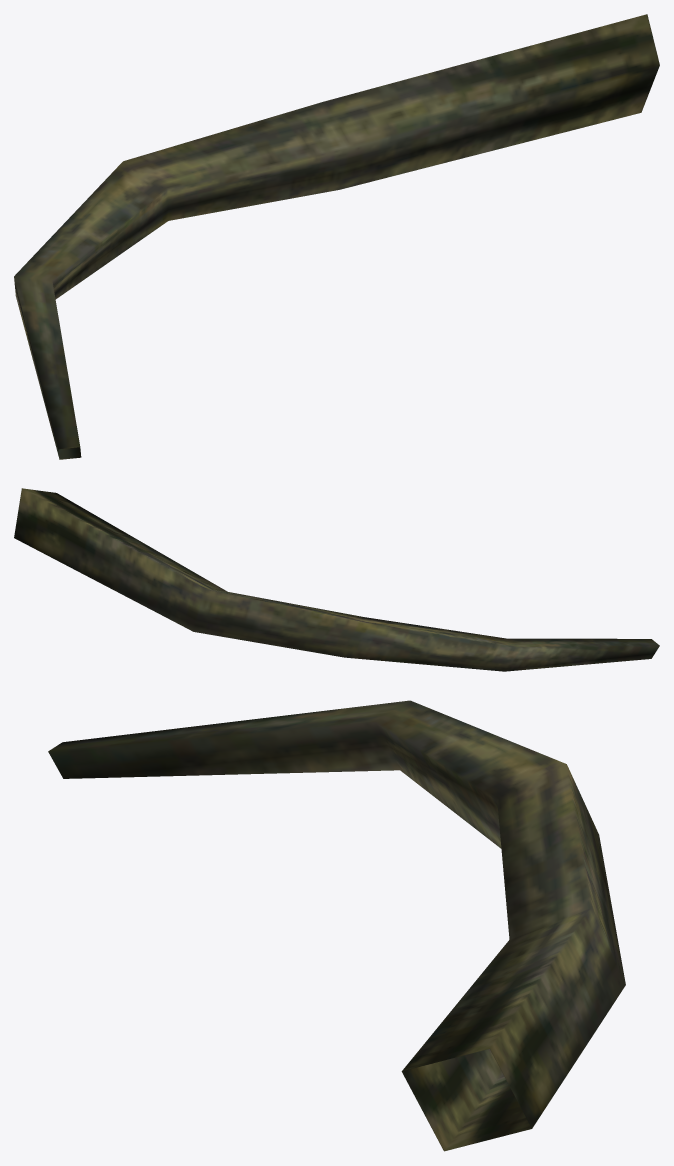
File: OVERHILL_A_01_LINE342.fbx
3 renders of one model, top to bottom at view 1: azimuth 30°, elevation 25°; view 2: azimuth 150°, elevation 25°; view 3: azimuth 270°, elevation 25°, orthographic. The views are drawn at different scales.
Visible parts, largest first — view 1: OVERHILL_A_01_LINE342; view 2: OVERHILL_A_01_LINE342; view 3: OVERHILL_A_01_LINE342.
Part boxes in pixels (x1,y1,x2,y2): OVERHILL_A_01_LINE342: [14, 14, 659, 459]; OVERHILL_A_01_LINE342: [14, 488, 659, 671]; OVERHILL_A_01_LINE342: [48, 700, 625, 1151].
Bounding box in the file's own units: 11972 × 2529 × 5639.
Materials: 1 (1 with a texture image).
